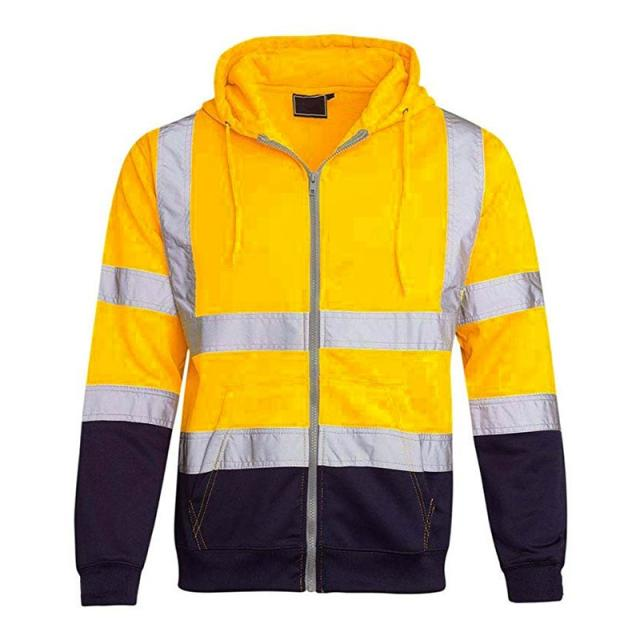Reflective-Jacket: (70, 34, 586, 618)
